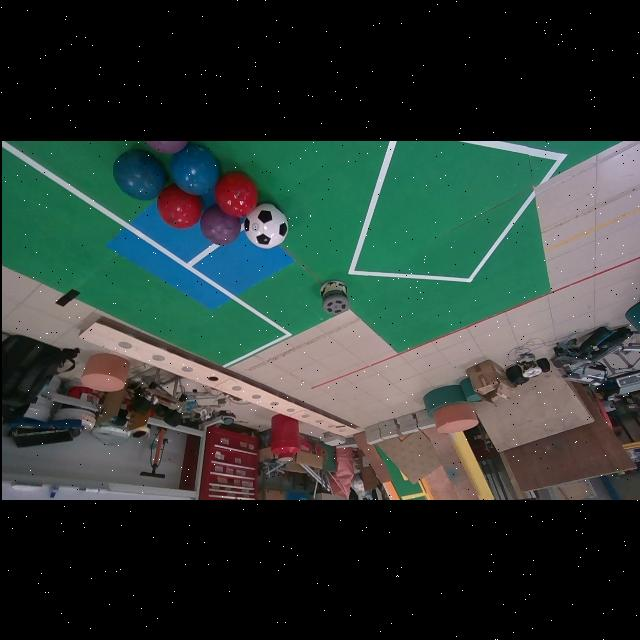B: (112, 150, 166, 200), (168, 145, 217, 195)
P: (199, 206, 239, 245), (144, 140, 187, 154)
R: (155, 184, 200, 229), (213, 172, 257, 216)
